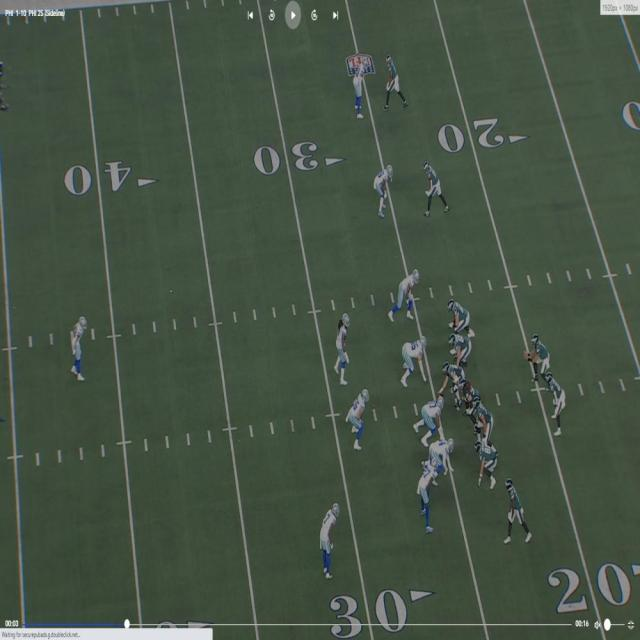center: (440, 356, 462, 400)
db: (322, 500, 340, 574), (350, 53, 368, 117), (70, 313, 87, 379), (374, 162, 393, 216)
lb: (348, 391, 368, 454), (421, 462, 436, 532), (334, 312, 348, 383)
qb: (528, 333, 548, 384)
skill: (547, 377, 569, 438), (505, 476, 525, 542), (426, 160, 448, 212), (385, 52, 405, 105), (476, 437, 494, 487)
